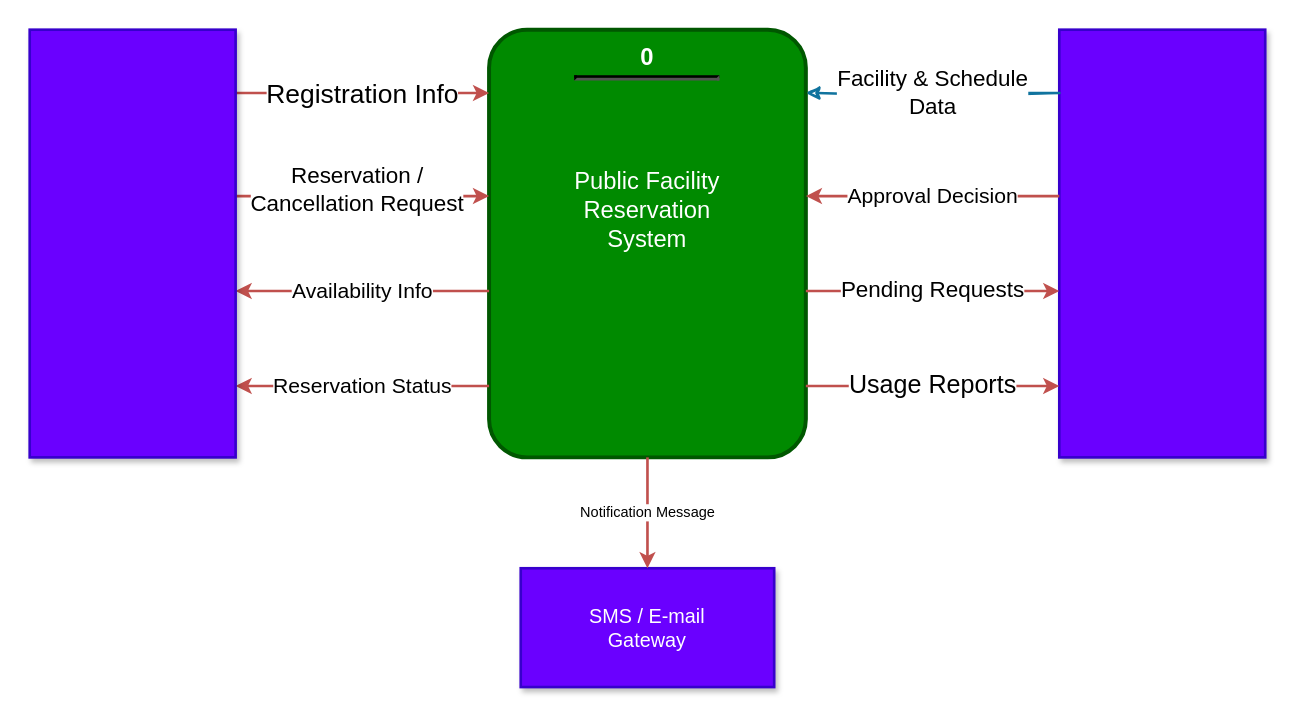
Image size: 1296x719. Some labels were removed from this diagram. The shapes that lost their labels are listed below. From the top down, each one's centre as x and y in pixels, then its label:
the point at 133,244: Citizen
the point at 1163,244: Facility Administrator
